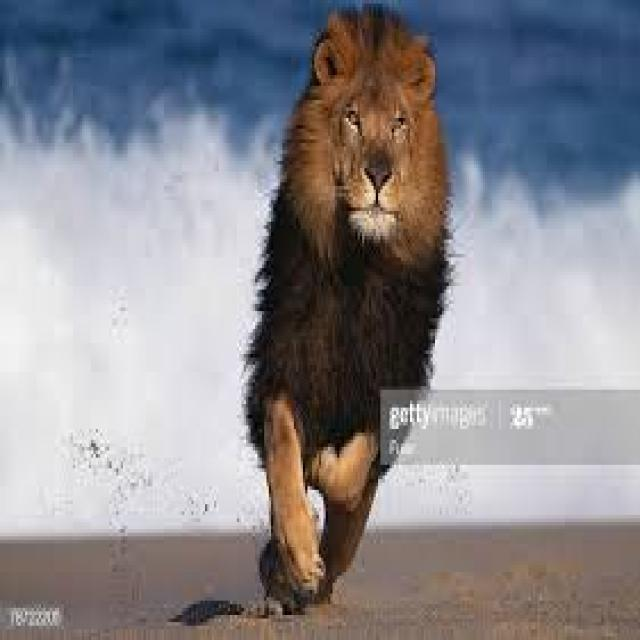Lion: (258, 12, 455, 611)
